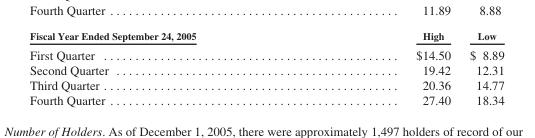table: (28, 29, 503, 107)
table column: (28, 29, 305, 107), (305, 29, 459, 107), (459, 29, 503, 107)
table column header: (28, 29, 503, 44)
table row: (28, 44, 503, 62), (28, 29, 503, 44), (28, 62, 503, 77), (28, 77, 503, 92), (28, 92, 503, 107)
